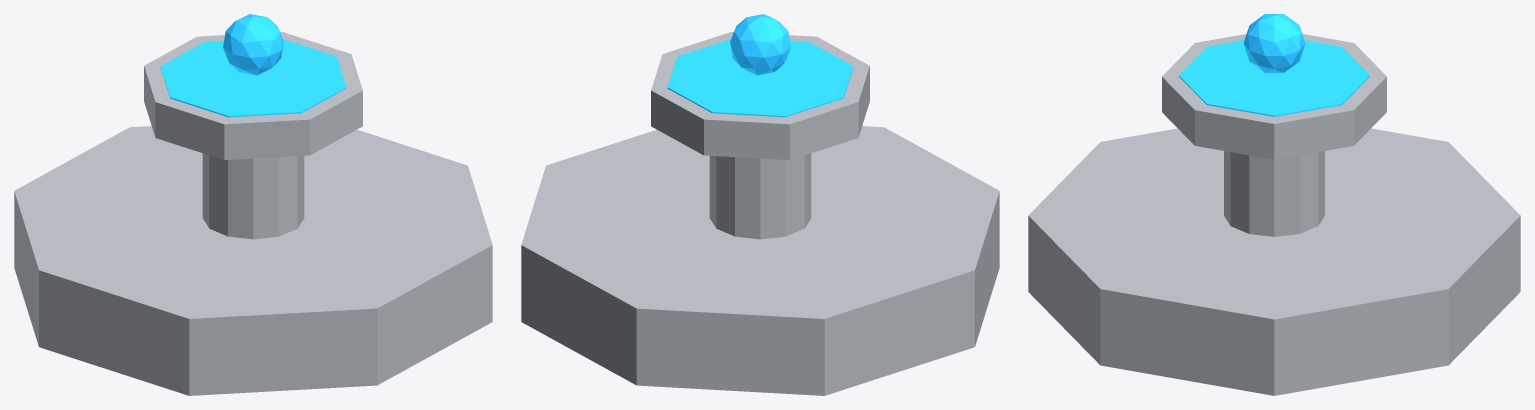
The model's file is fuente_plaza.glb.
3 renders of one model, left to right at view 1: azimuth 30°, elevation 25°; view 2: azimuth 150°, elevation 25°; view 3: azimuth 270°, elevation 25°, orthographic.
Parts seen in each view (by area): view 1: Cylinder, Cylinder.003, Cylinder.004, Cylinder.002, Icosphere; view 2: Cylinder, Cylinder.003, Cylinder.004, Cylinder.002, Icosphere; view 3: Cylinder, Cylinder.003, Cylinder.004, Cylinder.002, Icosphere.
Boxes of the visible parts, x1,y1,x2,y2 form: Cylinder: [14, 126, 492, 395]; Cylinder.003: [144, 32, 362, 160]; Cylinder.004: [160, 39, 346, 117]; Cylinder.002: [202, 153, 304, 239]; Icosphere: [223, 14, 283, 75]; Cylinder: [521, 126, 999, 395]; Cylinder.003: [651, 32, 869, 160]; Cylinder.004: [667, 39, 853, 117]; Cylinder.002: [709, 153, 811, 239]; Icosphere: [730, 14, 790, 75]; Cylinder: [1028, 128, 1520, 395]; Cylinder.003: [1162, 34, 1386, 159]; Cylinder.004: [1179, 40, 1369, 116]; Cylinder.002: [1224, 151, 1324, 236]; Icosphere: [1243, 14, 1305, 72].
Bounding box in the file's own units: 3.5 × 2.17 × 3.5.
